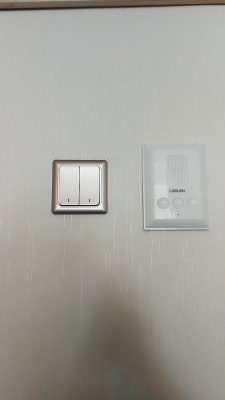switch: (57, 164, 77, 206), (81, 161, 98, 210), (171, 197, 185, 213), (190, 198, 200, 215), (157, 196, 167, 209)
